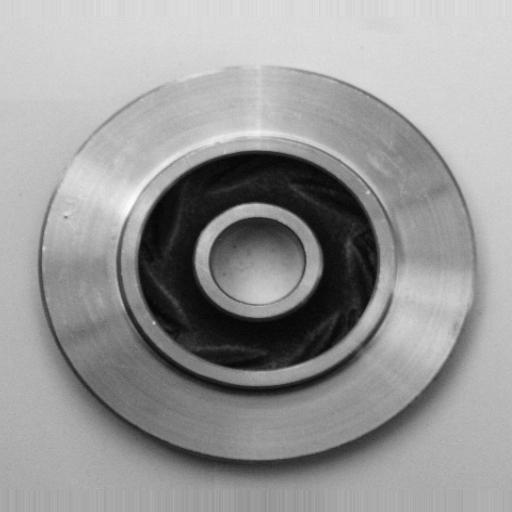unpolished_casting: (33, 60, 481, 463)
